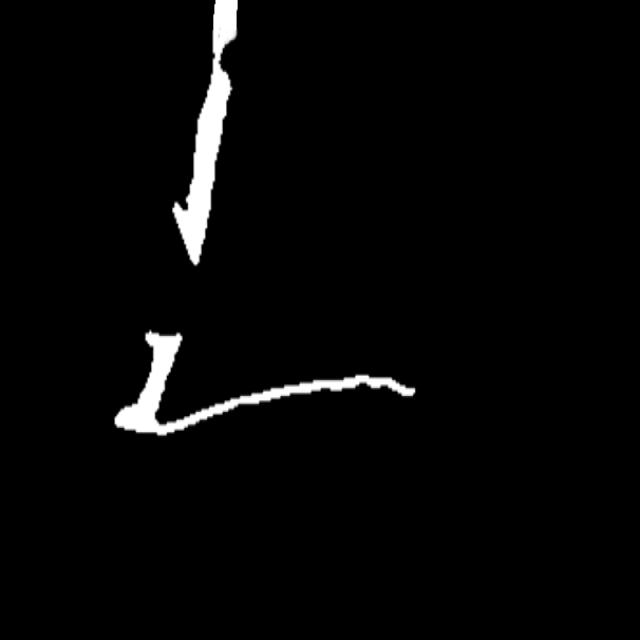sl: (206, 32, 238, 88)
